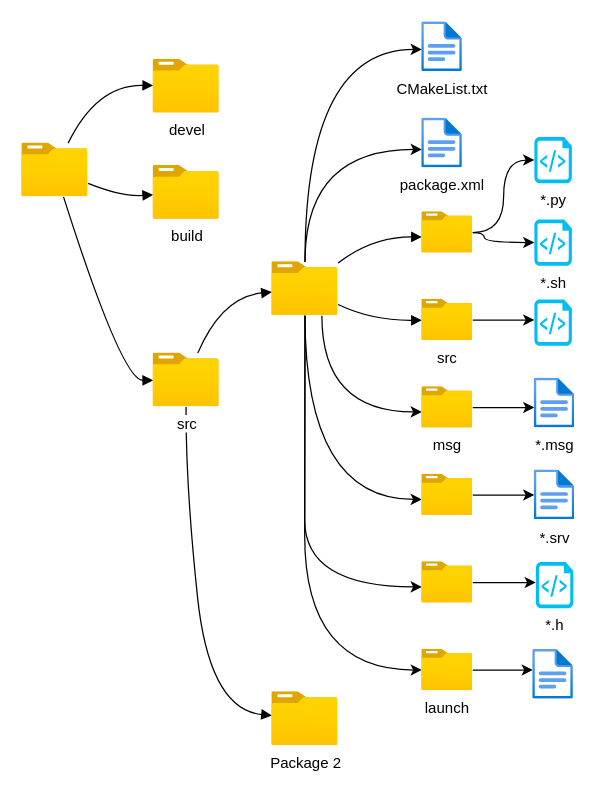
The diagram is 601 pixels wide and 793 high, and some of its shapes have lost their labels. The box of each missing label's shape, as (x1, y1, x2, y2) in pixels:
*.cpp: (534, 299, 571, 345)
*.launch: (532, 649, 573, 699)
catkin_ws: (21, 142, 88, 196)
include: (421, 561, 472, 602)
Package 1: (271, 261, 338, 315)
scripts: (421, 211, 472, 252)
srv: (421, 474, 472, 515)
